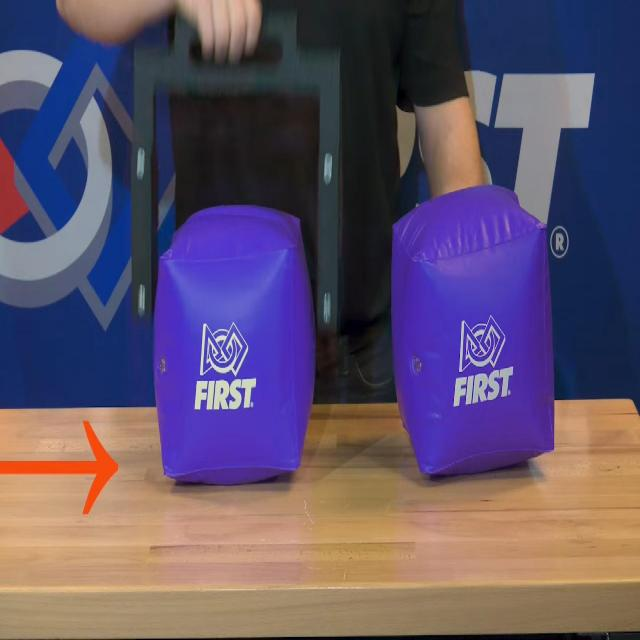frc_cube: (391, 184, 558, 478), (154, 204, 316, 485)
